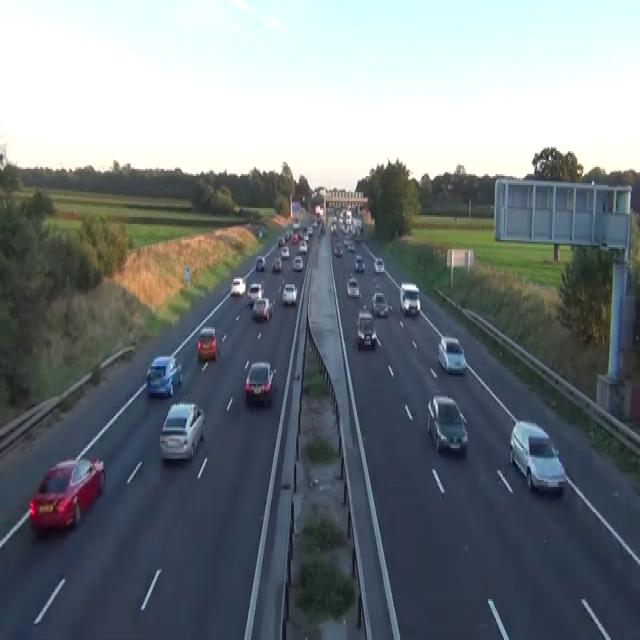Car: (29, 455, 105, 535), (509, 420, 566, 492), (159, 400, 205, 460), (426, 393, 467, 455), (145, 354, 182, 398), (244, 361, 276, 403), (437, 336, 465, 373), (356, 310, 376, 348), (197, 325, 217, 361), (399, 282, 420, 314), (251, 297, 272, 322), (371, 292, 389, 316), (247, 282, 263, 306), (282, 283, 297, 304), (229, 277, 246, 295), (346, 277, 360, 297), (352, 217, 363, 236), (354, 254, 365, 272), (374, 256, 384, 274), (292, 254, 303, 270), (271, 256, 282, 272), (255, 254, 265, 270), (333, 244, 343, 256), (280, 245, 289, 258), (298, 240, 307, 252), (329, 219, 336, 233), (278, 235, 285, 247), (347, 242, 355, 252), (312, 217, 320, 227), (291, 233, 299, 243), (283, 229, 290, 240), (343, 237, 351, 246), (292, 220, 299, 230), (307, 226, 313, 234), (259, 228, 262, 238)
